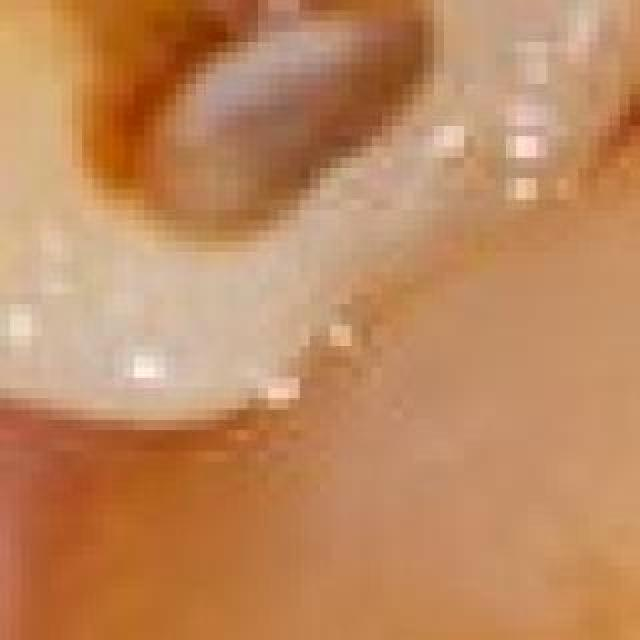cavities: (36, 0, 484, 250)
